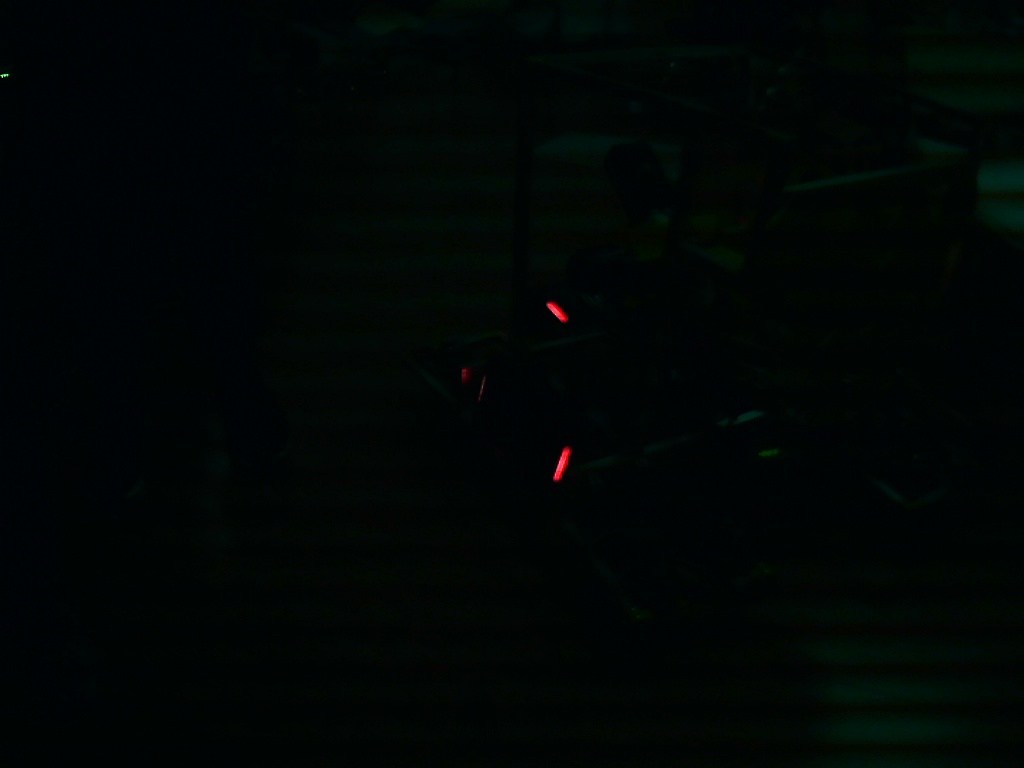lamp: (550, 441, 573, 487)
